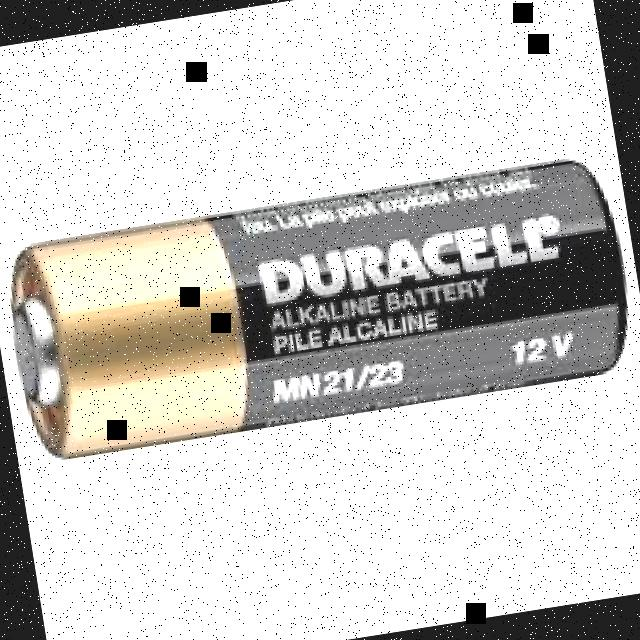battery: (10, 156, 629, 458)
